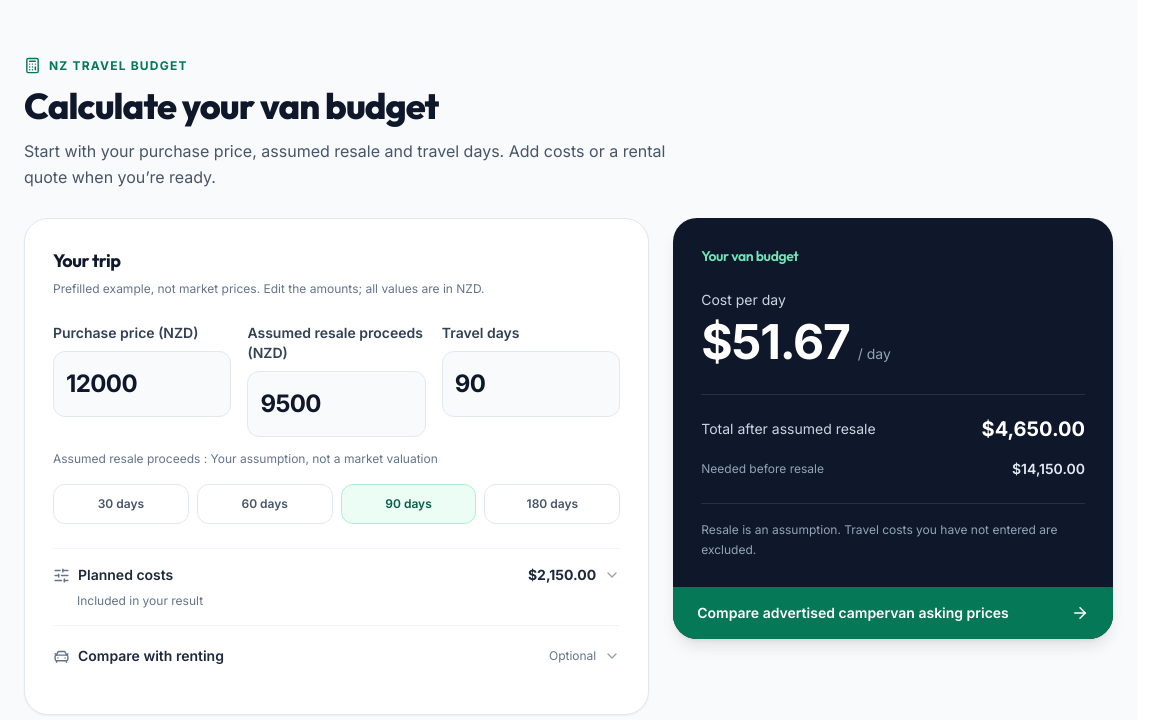
Test: ownership tool shows a rental quote can cost less and asks for the resale assumption
Expected: the number field labelled "Assumed resale proceeds (NZD)" is shown, x1=247 y1=370 x2=426 y2=436
Expected: the field labelled "Quoted rental daily rate (NZD)" is not shown
Click the text "Compare with renting" at (151, 656), box x1=78 y1=646 x2=224 y2=666
(page scrolled)
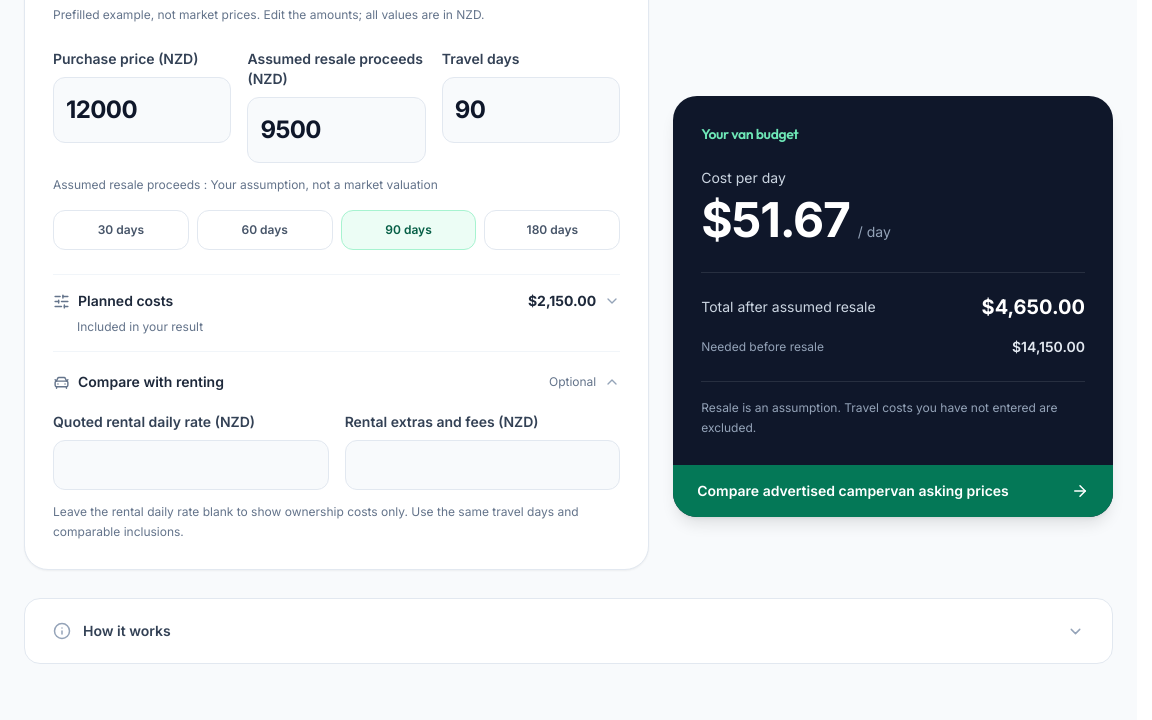
Expected: the number field labelled "Quoted rental daily rate (NZD)" is shown
Type "40" into the number field labelled "Quoted rental daily rate (NZD)" at (191, 465), box x1=53 y1=440 x2=329 y2=490
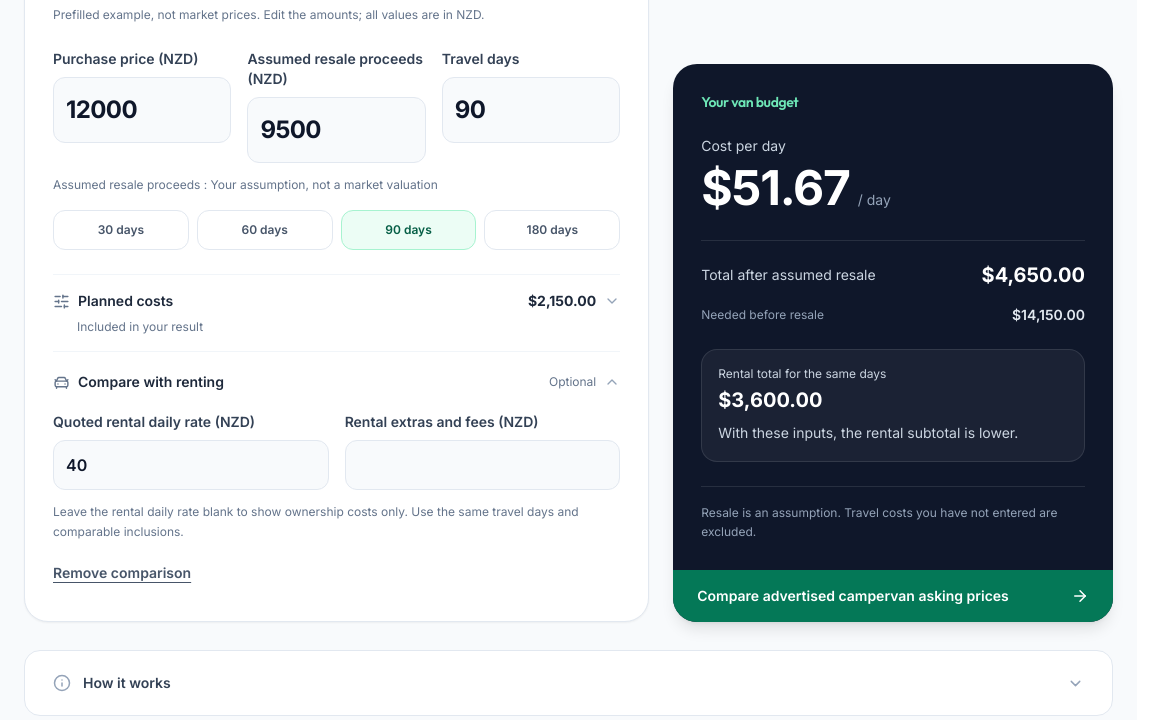
Expected: the text "With these inputs, the rental subtotal is lower." is shown, x1=718 y1=422 x2=1068 y2=445
Click the button "Remove comparison" at (122, 573), box x1=53 y1=553 x2=191 y2=593
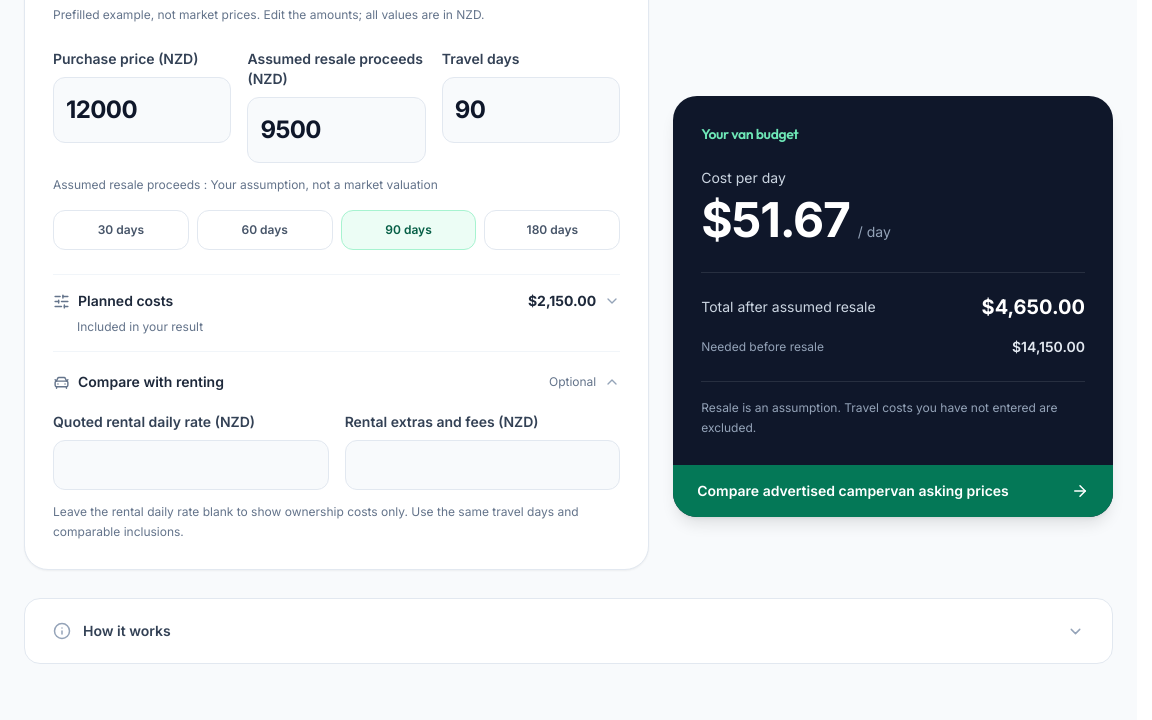
Expected: the text "Rental total for the same days" is gone
